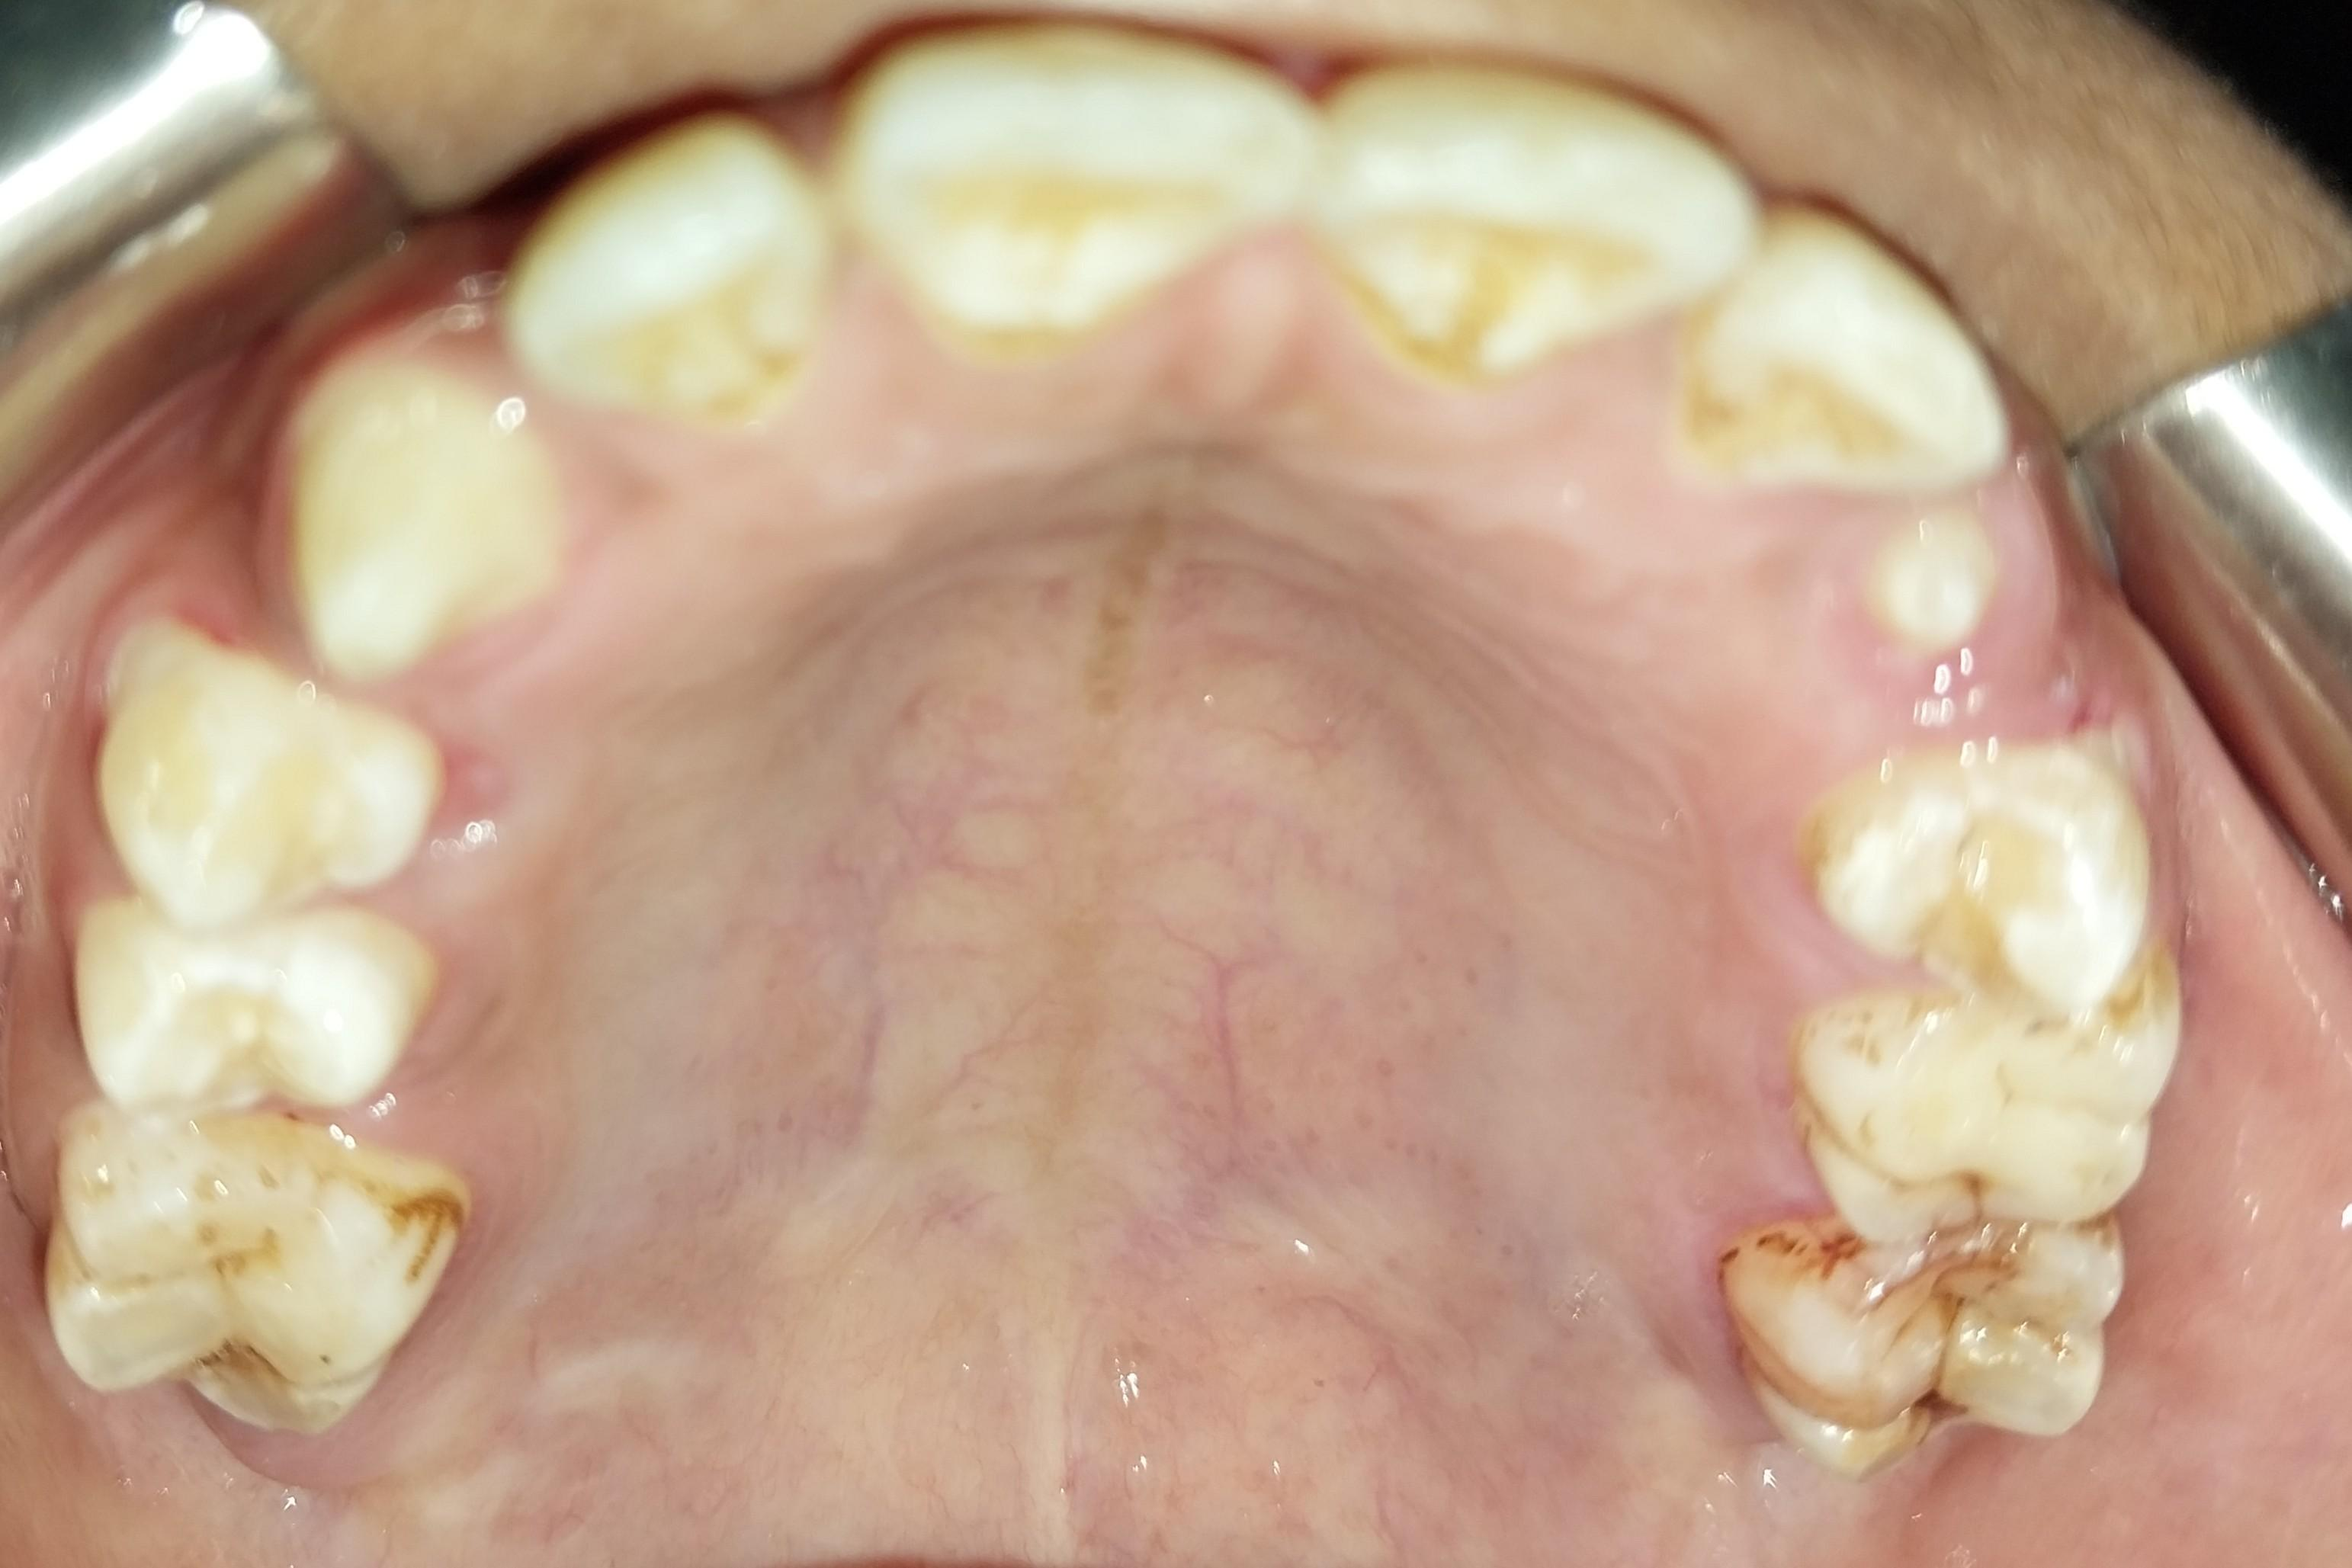D: (1720, 1198, 2126, 1494)
